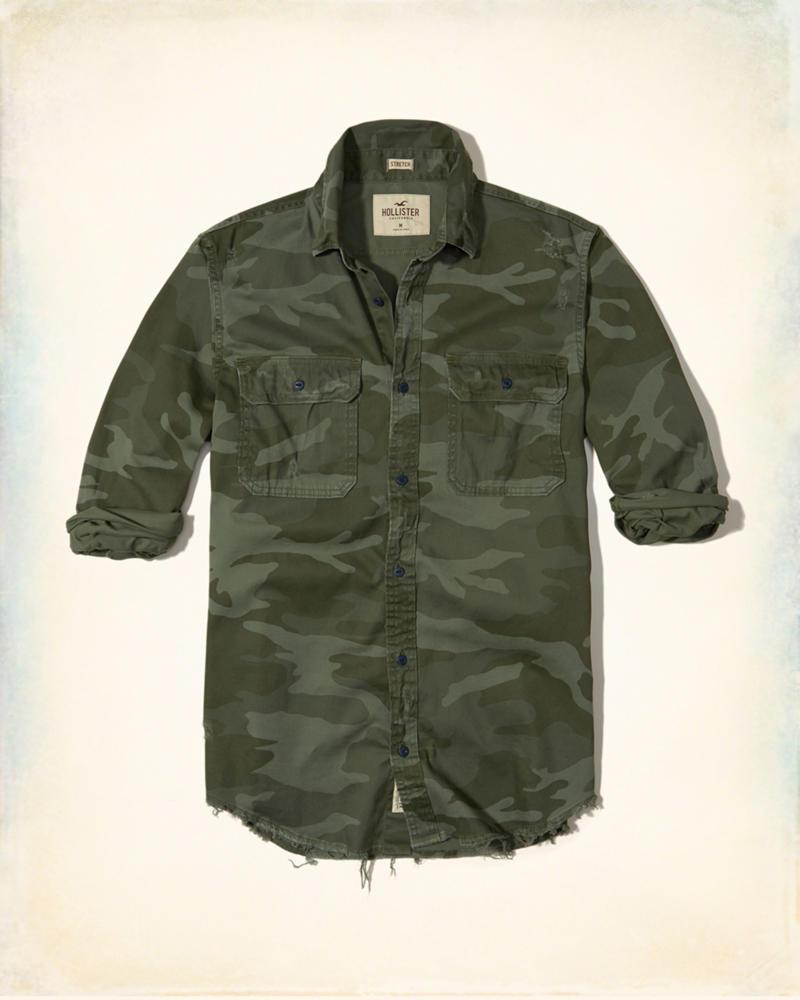teeshirt: (53, 107, 730, 862)
